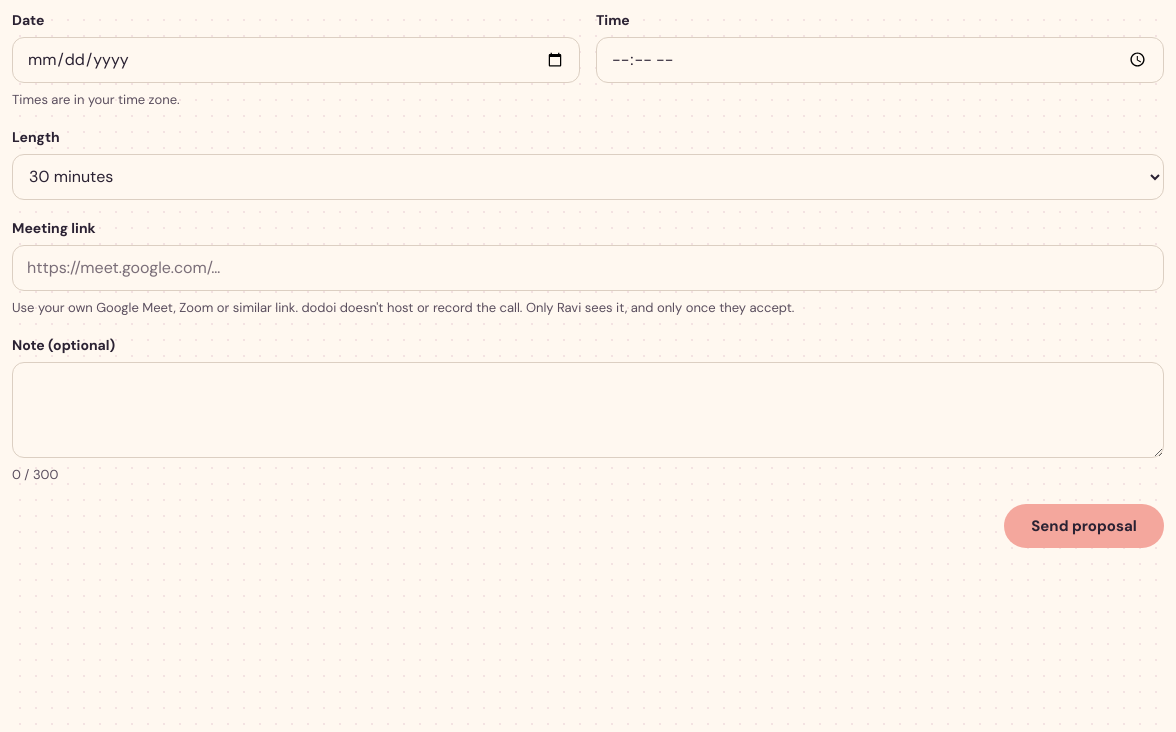
ProposeSessionForm › asks for the missing time and link and sends nothing
Step 1. Click the button "Send proposal" → (1084, 526), box left=1004, top=504, right=1164, bottom=548
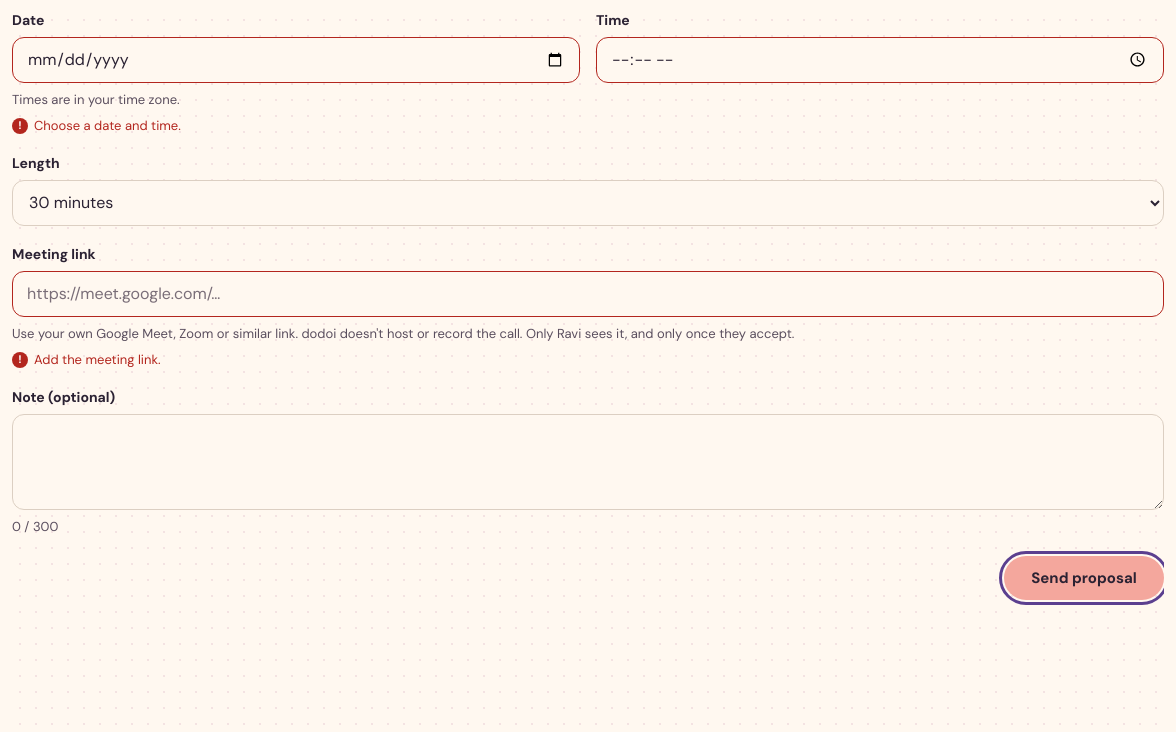
Expected: the text "Choose a date and time." is shown, left=34, top=117, right=181, bottom=134
Expected: the text "Add the meeting link." is shown, left=34, top=351, right=161, bottom=368
